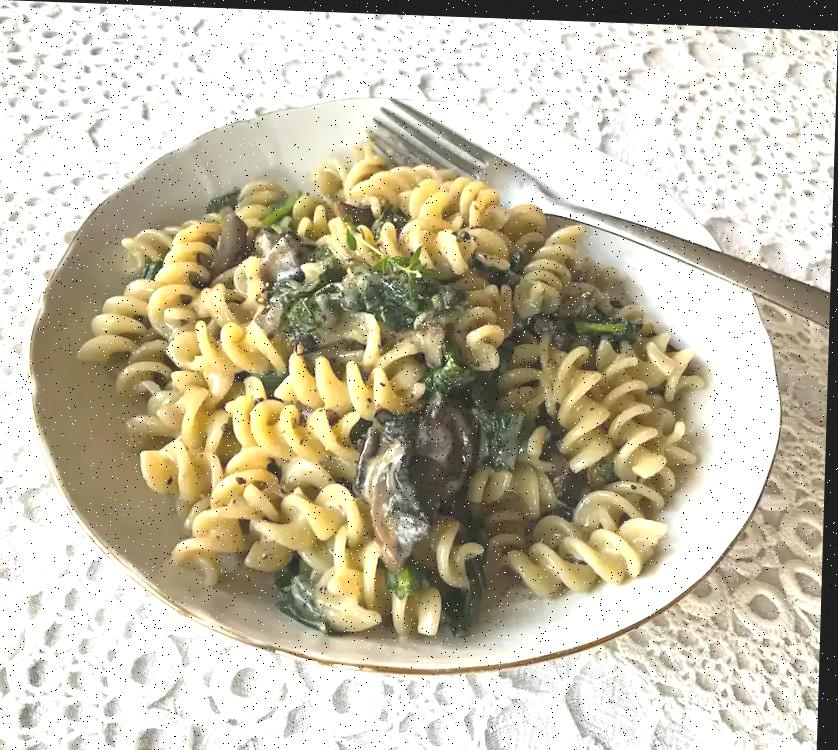pasta: (79, 144, 702, 635)
